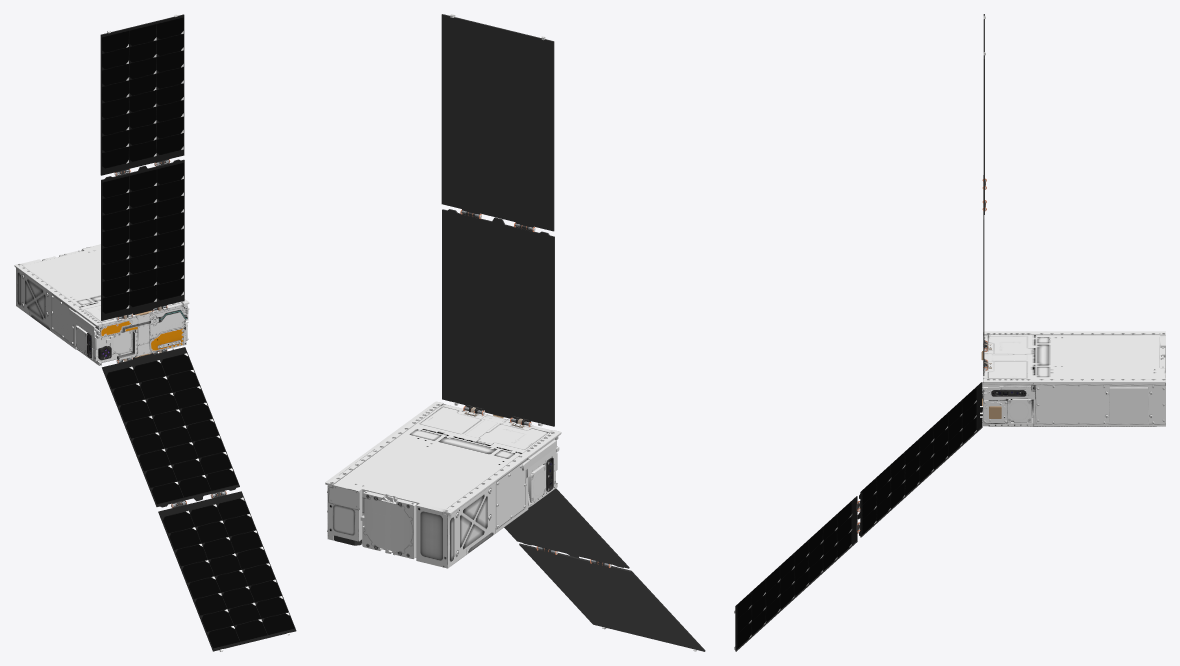
The model's file is prefire.glb.
3 views of the same model, side by side, from view 1: azimuth 30°, elevation 25°; view 2: azimuth 150°, elevation 25°; view 3: azimuth 270°, elevation 25° (orthographic). The views are drawn at different scales.
Visible parts, largest first — view 1: NoUVs.001, Arrays, BUS1, BUS2, NoUVs.004, BUS3; view 2: NoUVs.004, BUS1, NoUVs.001, BUS2, BUS3; view 3: BUS1, NoUVs.001, NoUVs.004, BUS3, BUS2.
Part boxes in pixels (x1,y1,x2,y2): NoUVs.001: [102, 347, 296, 651]; Arrays: [101, 15, 184, 320]; BUS1: [18, 244, 184, 365]; BUS2: [14, 259, 187, 360]; NoUVs.004: [42, 14, 189, 363]; BUS3: [73, 318, 111, 360]; NoUVs.004: [325, 14, 558, 558]; BUS1: [327, 404, 557, 565]; NoUVs.001: [504, 488, 705, 651]; BUS2: [334, 402, 561, 568]; BUS3: [528, 448, 557, 502]; BUS1: [988, 333, 1165, 426]; NoUVs.001: [734, 382, 982, 651]; NoUVs.004: [980, 14, 1165, 423]; BUS3: [984, 387, 1035, 422]; BUS2: [983, 331, 1165, 426].
Bounding box in the file's own units: 0.196 × 1.08 × 0.7078.
14 materials, 3 textured.
